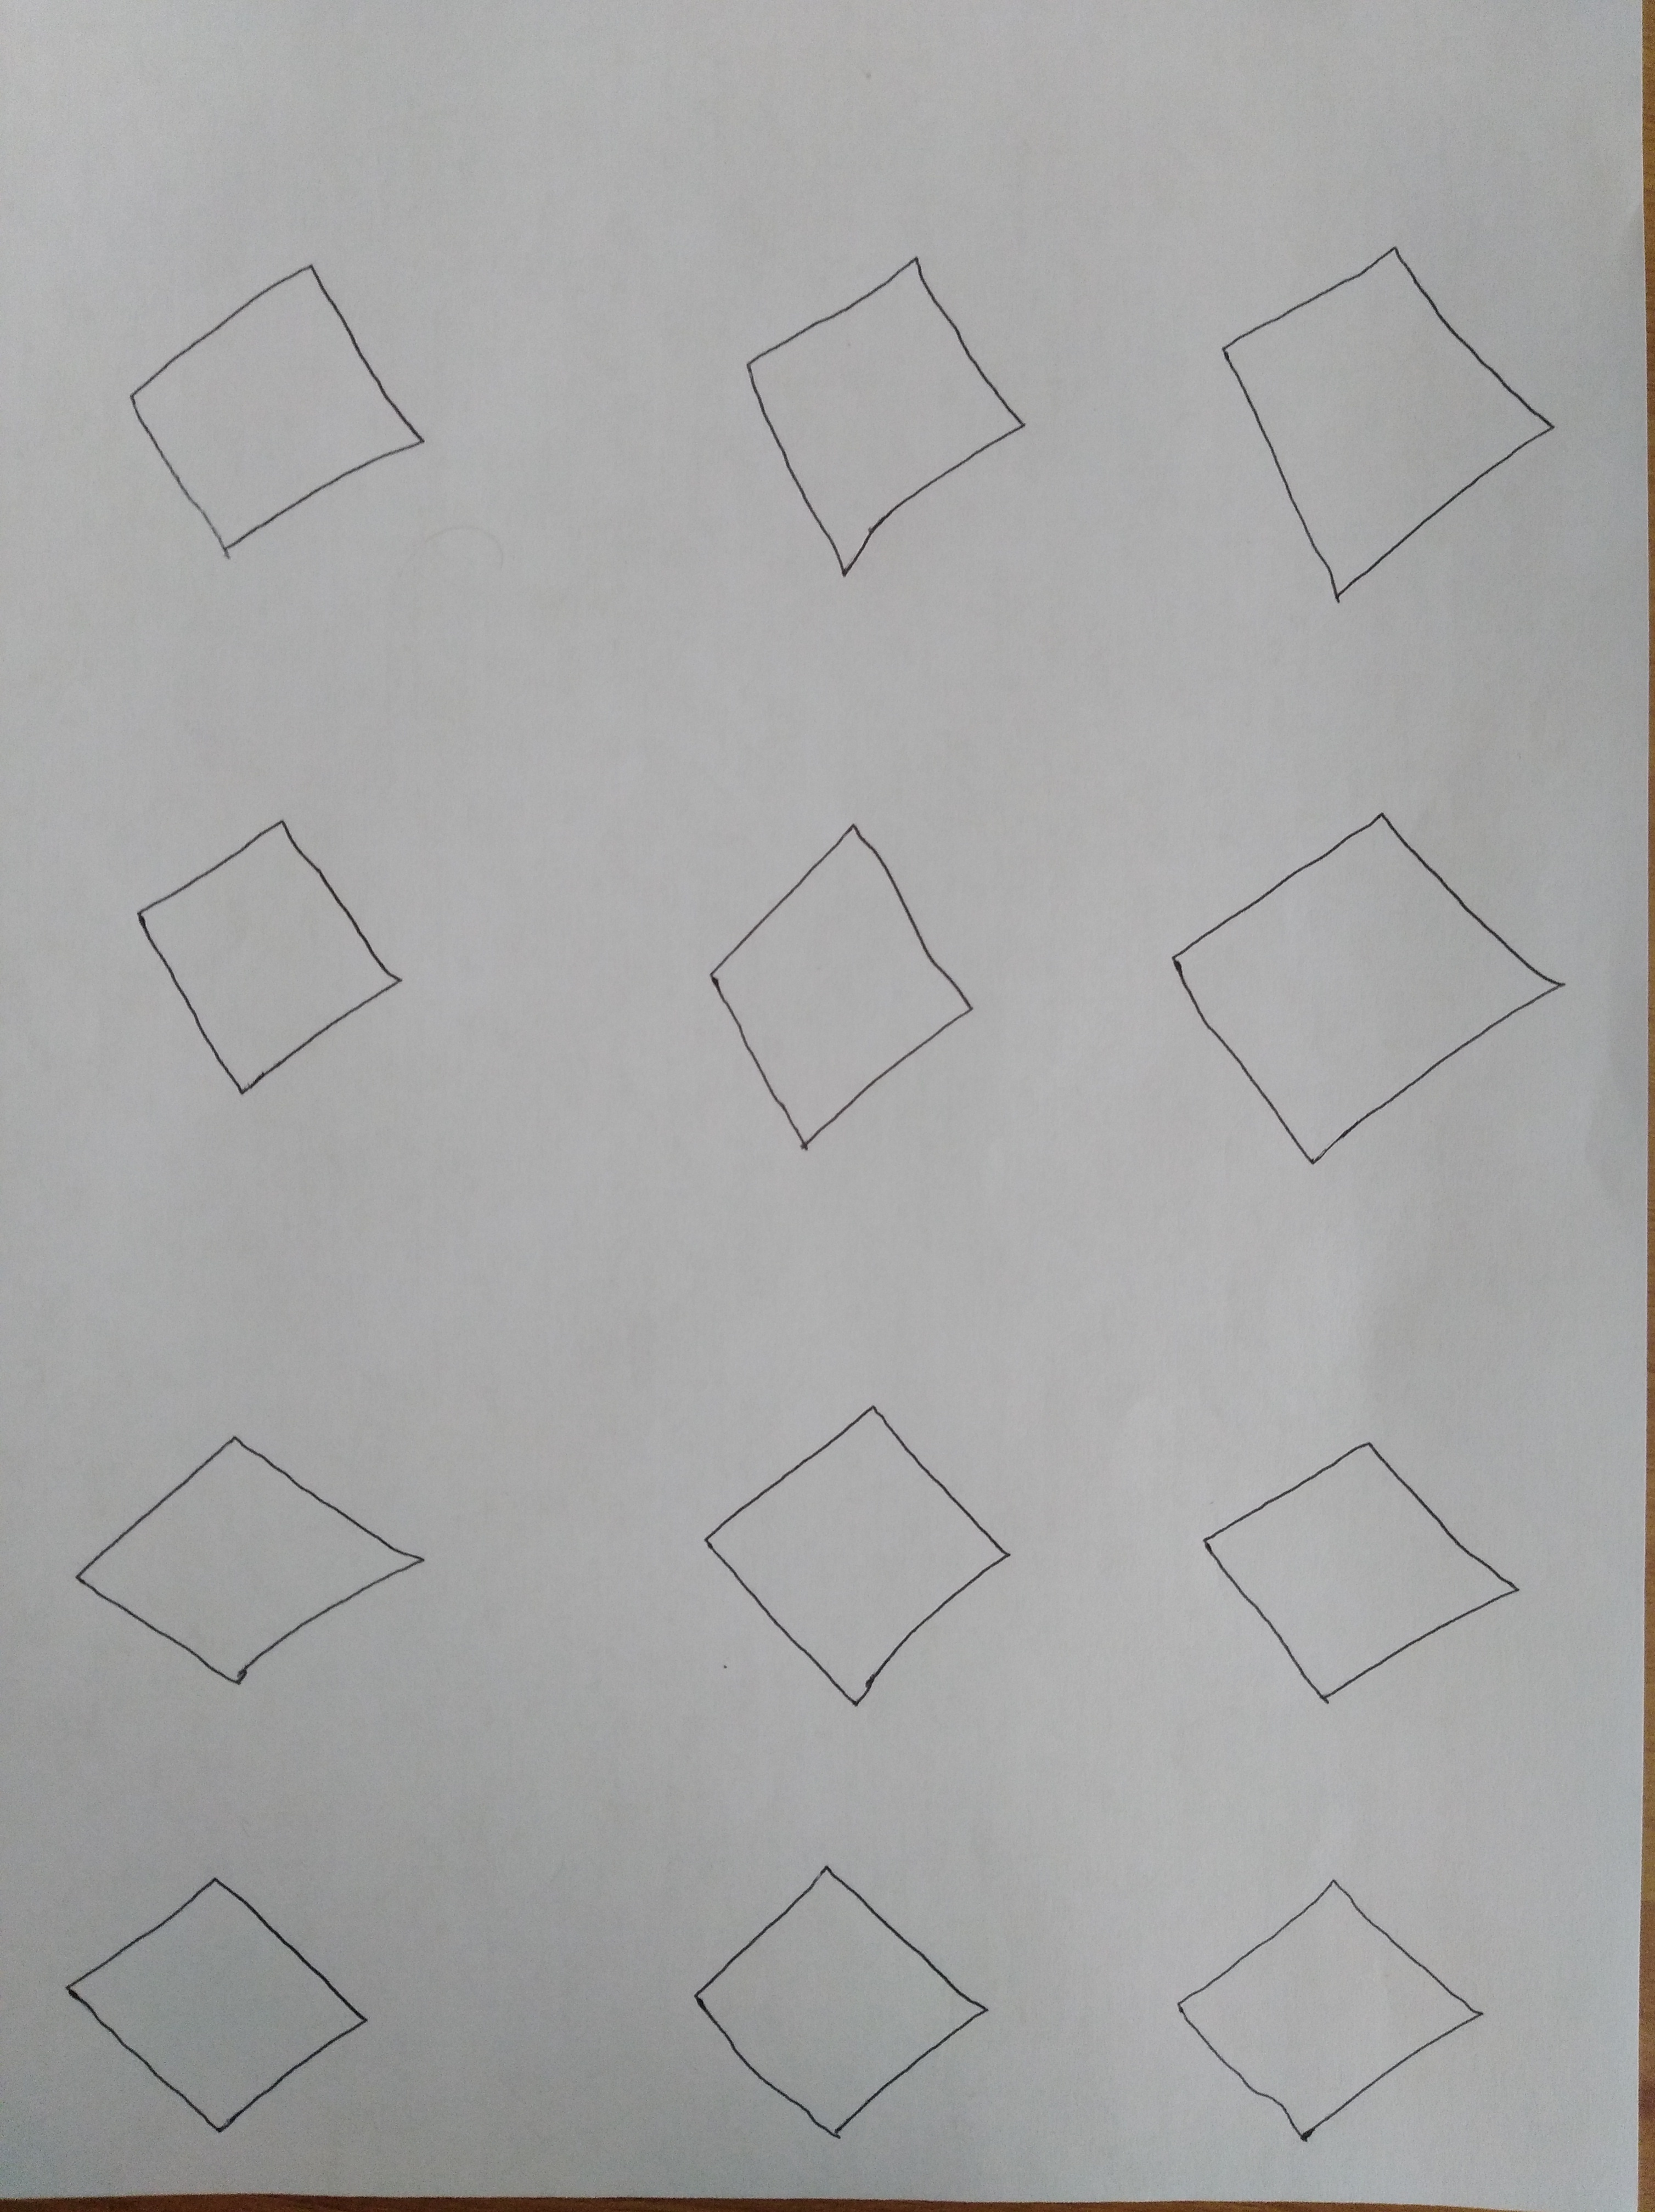decision: (1137, 773, 1587, 1209), (1186, 203, 1594, 632), (650, 214, 1090, 605), (624, 777, 1038, 1182), (1161, 1383, 1552, 1760), (661, 1380, 1055, 1746), (1127, 1830, 1528, 2172), (82, 224, 459, 587), (633, 1826, 1034, 2165), (33, 1833, 438, 2155), (50, 1394, 449, 1717), (78, 777, 431, 1129)
